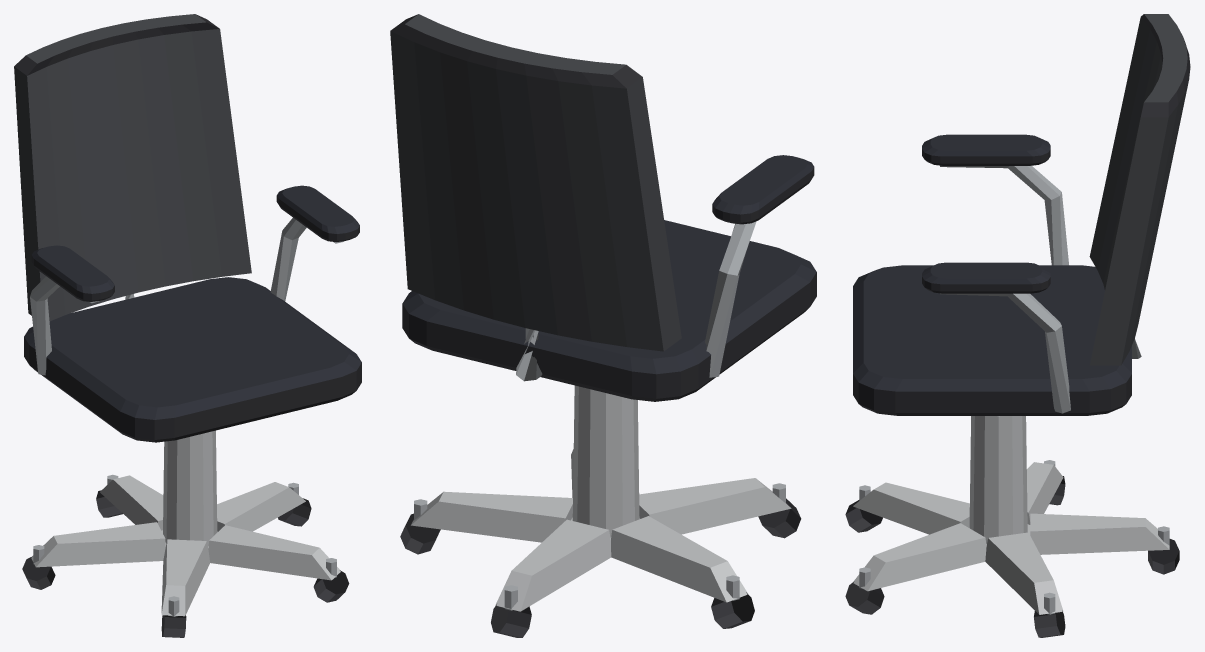
File: FN_Chair_Office.glb
3 views of the same model, side by side, from view 1: azimuth 30°, elevation 25°; view 2: azimuth 150°, elevation 25°; view 3: azimuth 270°, elevation 25° (orthographic). The views are drawn at different scales.
Visible parts, largest first — view 1: FN_Chair_Office; view 2: FN_Chair_Office; view 3: FN_Chair_Office.
Part boxes in pixels (bbox=[...]): FN_Chair_Office: bbox=[14, 14, 361, 637]; FN_Chair_Office: bbox=[390, 14, 816, 637]; FN_Chair_Office: bbox=[845, 14, 1190, 637].
Size of the model in its own units: 0.5786 by 0.93 by 0.5684.
1 material, 1 textured.
